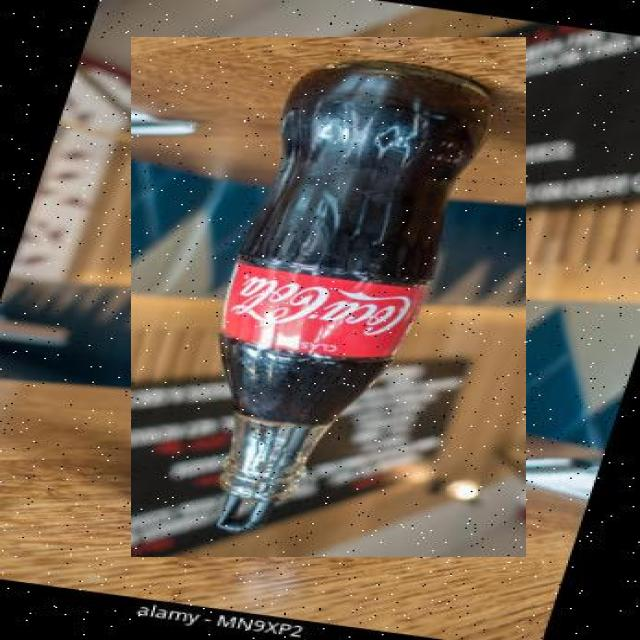coca-cola: (131, 37, 526, 557)
